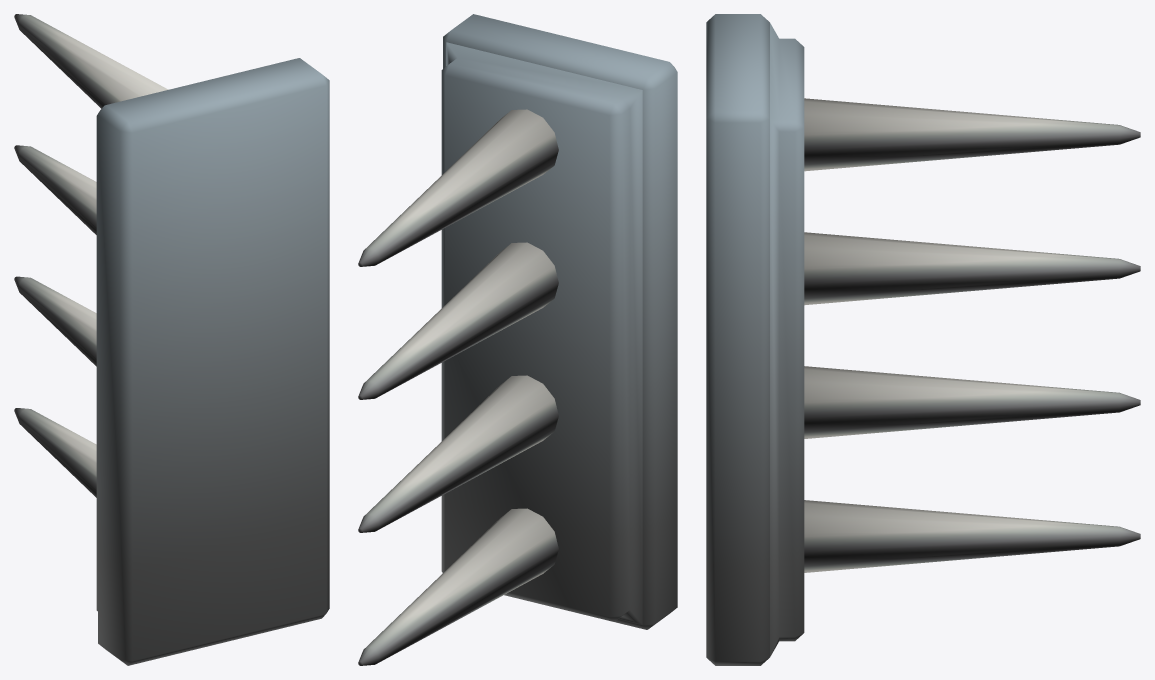
The model's file is Spikes.fbx.
3 views of the same model, side by side, from view 1: azimuth 30°, elevation 25°; view 2: azimuth 150°, elevation 25°; view 3: azimuth 270°, elevation 25° (orthographic).
Visible parts, largest first — view 1: Spikes; view 2: Spikes; view 3: Spikes.
Boxes of the visible parts, <box> form: Spikes: <box>14,14,329,665</box>; Spikes: <box>358,14,677,665</box>; Spikes: <box>706,14,1140,665</box>.
Size of the model in its own units: 140 by 348 by 246.
